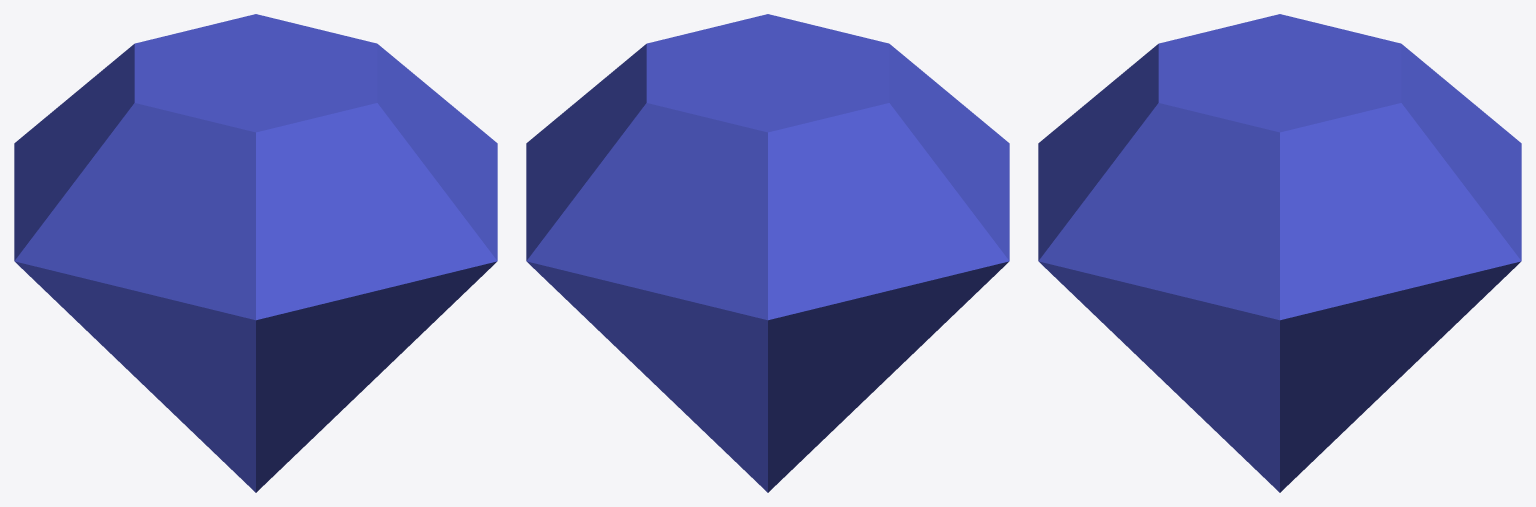
Rendered from Gem_01.fbx.
The picture shows the model from 3 angles, left to right: view 1: azimuth 30°, elevation 25°; view 2: azimuth 150°, elevation 25°; view 3: azimuth 270°, elevation 25°; orthographic projection.
Parts seen in each view (by area): view 1: Gem_01; view 2: Gem_01; view 3: Gem_01.
Part boxes in pixels (x1=…): Gem_01: x1=14, y1=14, x2=497, y2=492; Gem_01: x1=526, y1=14, x2=1009, y2=492; Gem_01: x1=1038, y1=14, x2=1521, y2=492.
Size of the model in its own units: 0.0795 by 0.0659 by 0.0688.
